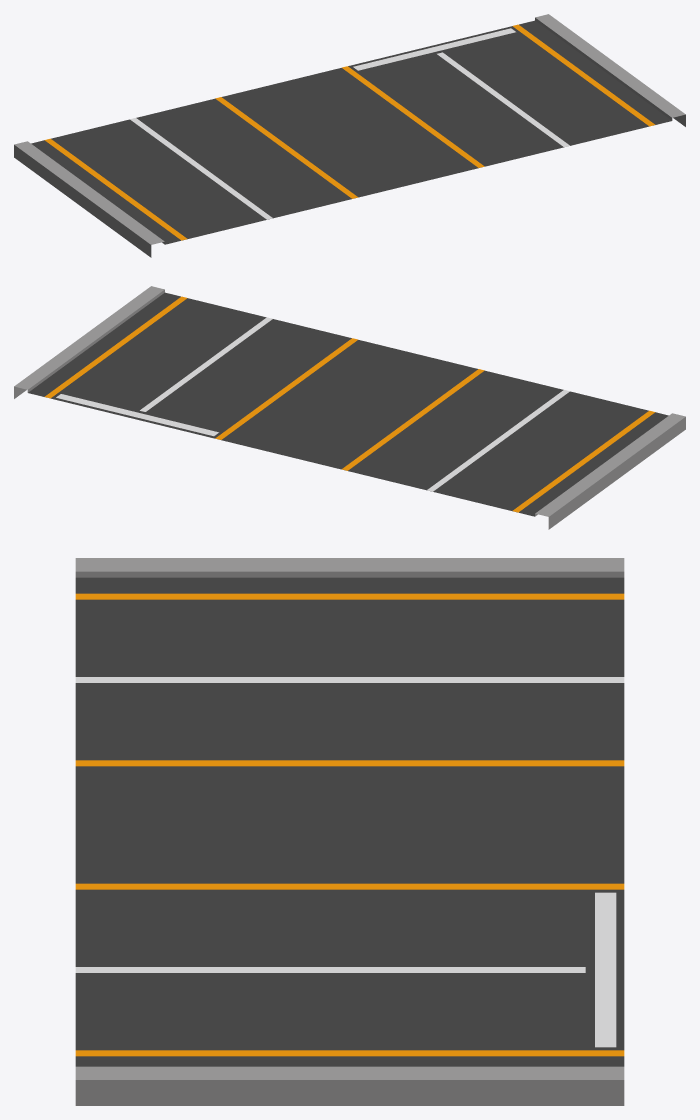
File: Road_A_2L_1_7.glb
3 renders of one model, top to bottom at view 1: azimuth 30°, elevation 25°; view 2: azimuth 150°, elevation 25°; view 3: azimuth 270°, elevation 25°, orthographic. The views are drawn at different scales.
Parts seen in each view (by area): view 1: Road_A_2L_1_7; view 2: Road_A_2L_1_7; view 3: Road_A_2L_1_7.
Boxes of the visible parts, x1,y1,x2,y2 form: Road_A_2L_1_7: (14,14,685,257); Road_A_2L_1_7: (14,286,685,529); Road_A_2L_1_7: (75,558,624,1105).
Size of the model in its own units: 18 by 0.4148 by 8.
Materials: 1 (1 with a texture image).
